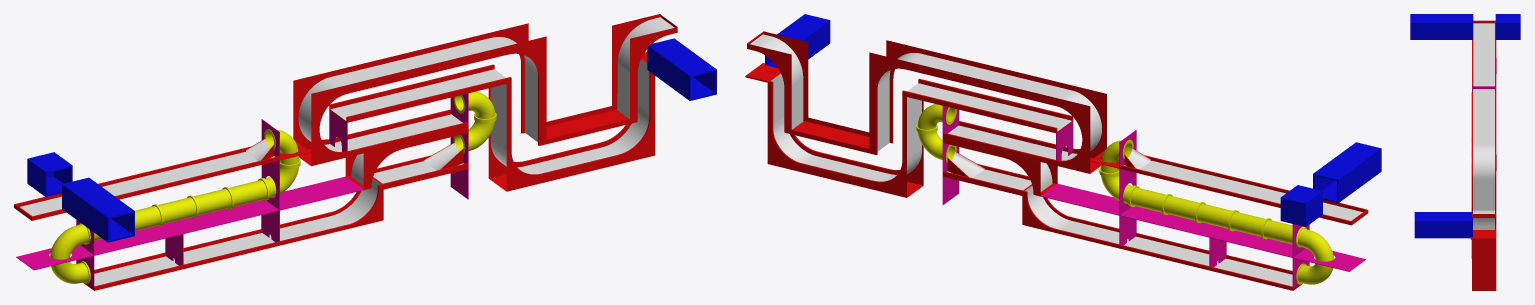
File: Tunnel_Track_02.fbx
The picture shows the model from 3 angles, left to right: view 1: azimuth 30°, elevation 25°; view 2: azimuth 150°, elevation 25°; view 3: azimuth 270°, elevation 25°; orthographic projection. The views are drawn at different scales.
Parts seen in each view (by area): view 1: Track_04, Track_05, Track_01, Track_Pipe_01, Floor_01, Track_08, Track_01.005, Track_01.004, Track_06, Vent_01, Vent_02, Track_07 (+5 smaller); view 2: Track_04, Track_05, Track_Pipe_01, Track_01, Floor_01, Track_08, Track_01.005, Track_01.004, Track_06, Vent_01, Track_07, Vent_03 (+5 smaller); view 3: Track_04, Vent_01, Track_08, Vent_02, Track_05, Vent_03, Track_06, Track_01.006, Track_01.004.
Part boxes in pixels (left/top/right/bottom): Track_04: left=293, top=23, right=546, bottom=166; Track_05: left=488, top=58, right=655, bottom=191; Track_01: left=84, top=177, right=383, bottom=290; Track_Pipe_01: left=49, top=129, right=300, bottom=283; Floor_01: left=16, top=176, right=363, bottom=270; Track_08: left=14, top=140, right=311, bottom=220; Track_01.005: left=329, top=64, right=511, bottom=122; Track_01.004: left=76, top=93, right=468, bottom=286; Track_06: left=612, top=14, right=677, bottom=123; Vent_01: left=62, top=177, right=134, bottom=242; Vent_02: left=647, top=38, right=716, bottom=100; Track_07: left=546, top=106, right=629, bottom=143; Track_04: left=869, top=40, right=1106, bottom=173; Track_05: left=767, top=72, right=923, bottom=197; Track_Pipe_01: left=1099, top=139, right=1334, bottom=284; Track_01: left=1022, top=184, right=1302, bottom=290; Floor_01: left=1040, top=183, right=1365, bottom=271; Track_08: left=1090, top=150, right=1368, bottom=225; Track_01.005: left=902, top=78, right=1073, bottom=133; Track_01.004: left=942, top=106, right=1309, bottom=290; Track_06: left=747, top=31, right=808, bottom=134; Vent_01: left=1313, top=142, right=1381, bottom=203; Track_07: left=791, top=117, right=869, bottom=153; Vent_03: left=1280, top=185, right=1322, bottom=226; Track_04: left=1471, top=89, right=1496, bottom=212; Vent_01: left=1410, top=14, right=1473, bottom=39; Track_08: left=1472, top=20, right=1496, bottom=86; Vent_02: left=1414, top=212, right=1472, bottom=238; Track_05: left=1471, top=210, right=1496, bottom=290; Vent_03: left=1495, top=14, right=1520, bottom=39; Track_06: left=1471, top=210, right=1496, bottom=258; Track_01.006: left=1470, top=230, right=1496, bottom=239; Track_01.004: left=1472, top=86, right=1496, bottom=92.
Size of the model in its own units: 35602 by 7659 by 7691.
